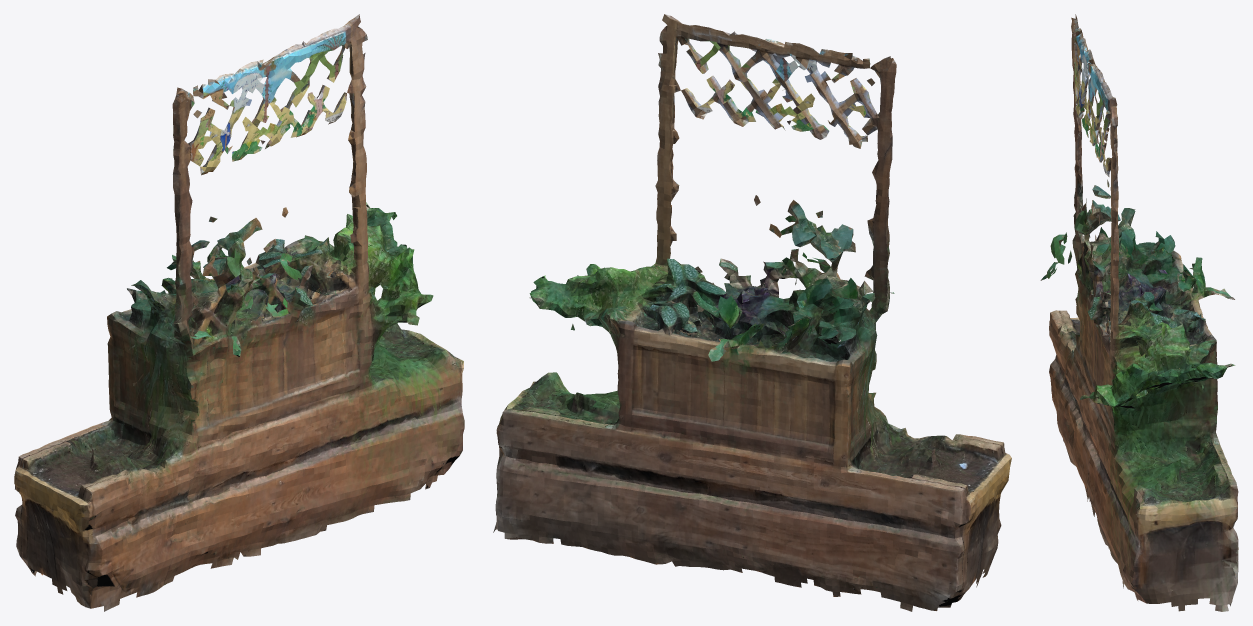
Rendered from jardin.glb.
3 renders of one model, left to right at view 1: azimuth 30°, elevation 25°; view 2: azimuth 150°, elevation 25°; view 3: azimuth 270°, elevation 25°, orthographic. The views are drawn at different scales.
Parts seen in each view (by area): view 1: maceta_low_low; view 2: maceta_low_low; view 3: maceta_low_low.
Boxes of the visible parts, bbox=[...] form: maceta_low_low: bbox=[14, 14, 464, 611]; maceta_low_low: bbox=[493, 14, 1011, 611]; maceta_low_low: bbox=[1040, 14, 1238, 611].
Size of the model in its own units: 1.37 by 1.5 by 0.5699.
1 material, 1 textured.
